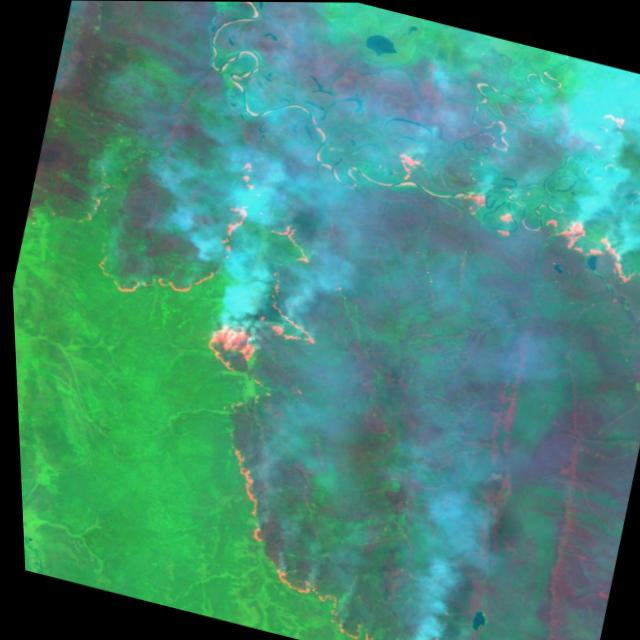fire: (43, 119, 359, 396), (180, 438, 501, 640), (362, 139, 640, 297), (578, 102, 633, 145)
